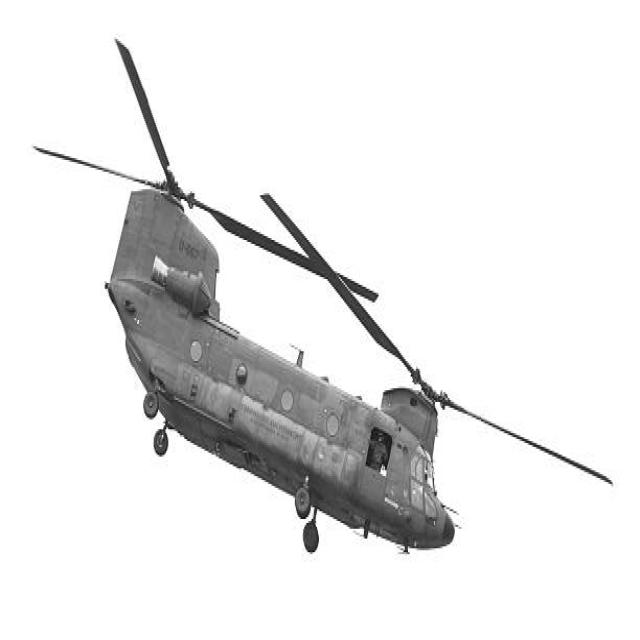Helicopter: (106, 42, 473, 552)
